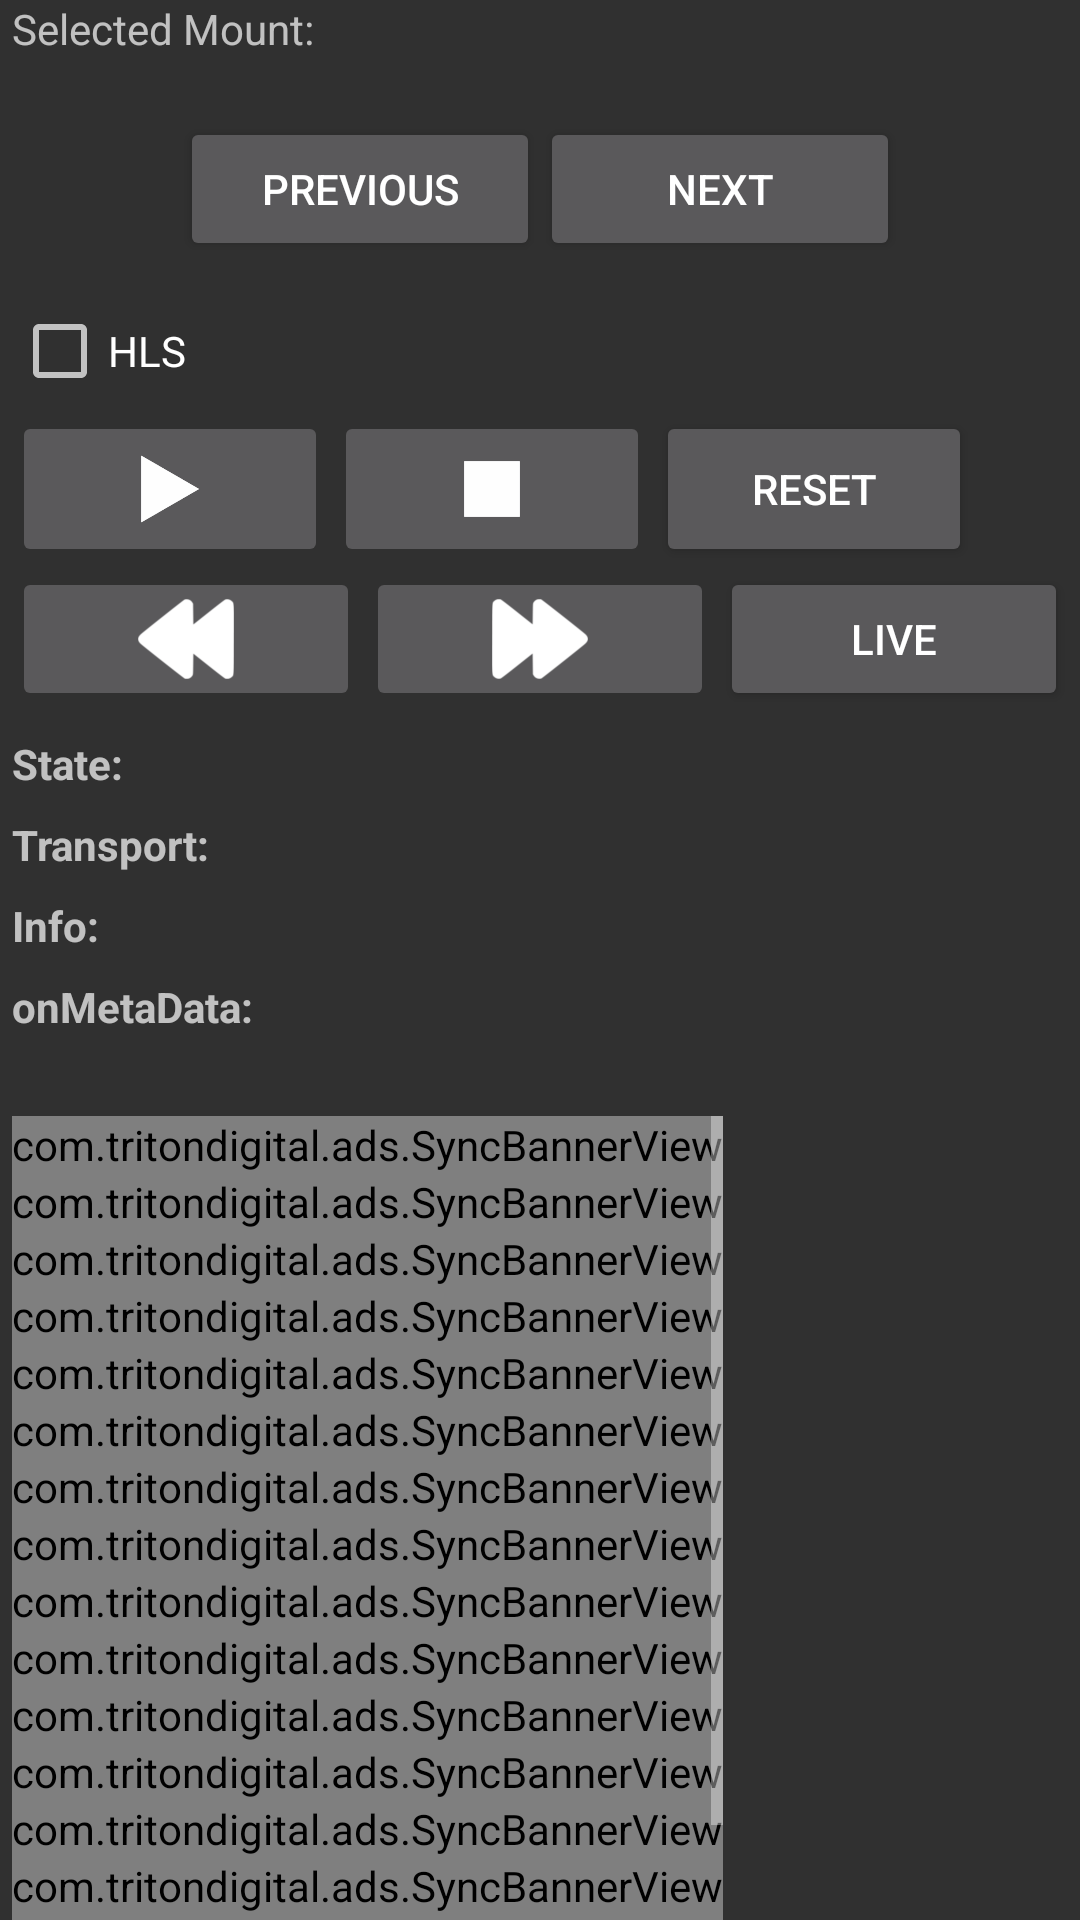

Locate icon controls on the screen. Image size 1080px×1920px, boxes as (x1, y1, x2, y2).
fastforward: (378, 585, 702, 693)
play: (24, 429, 316, 549)
rewind: (24, 585, 348, 693)
stop: (346, 429, 638, 549)
